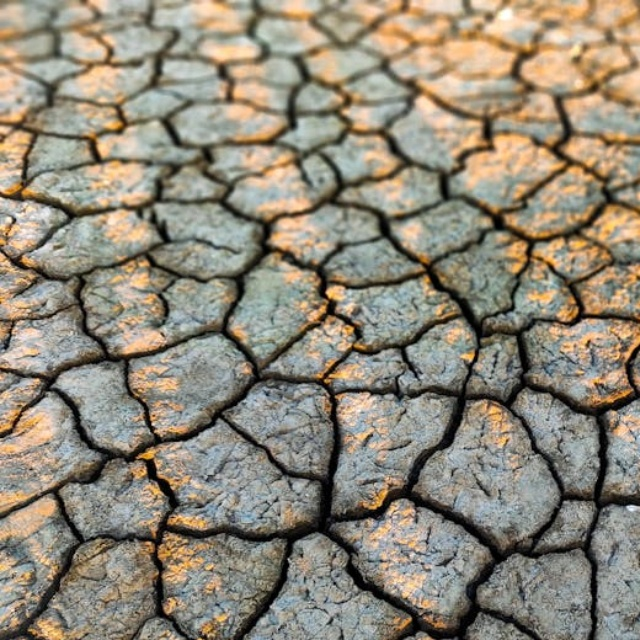网状裂隙: (0, 0, 640, 588)
